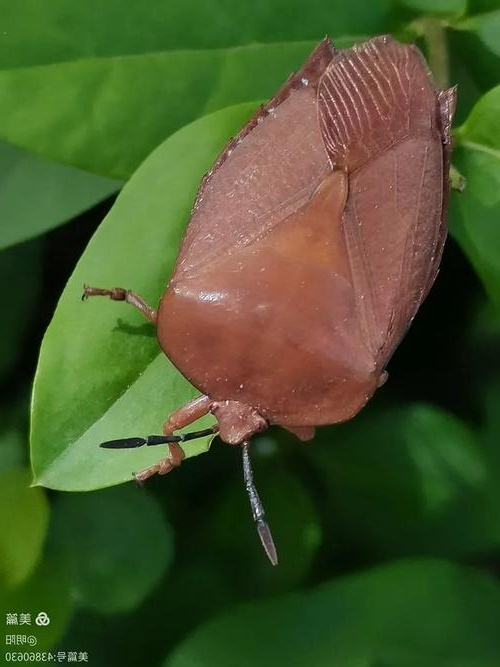Stink_Bug: (99, 15, 469, 457)
